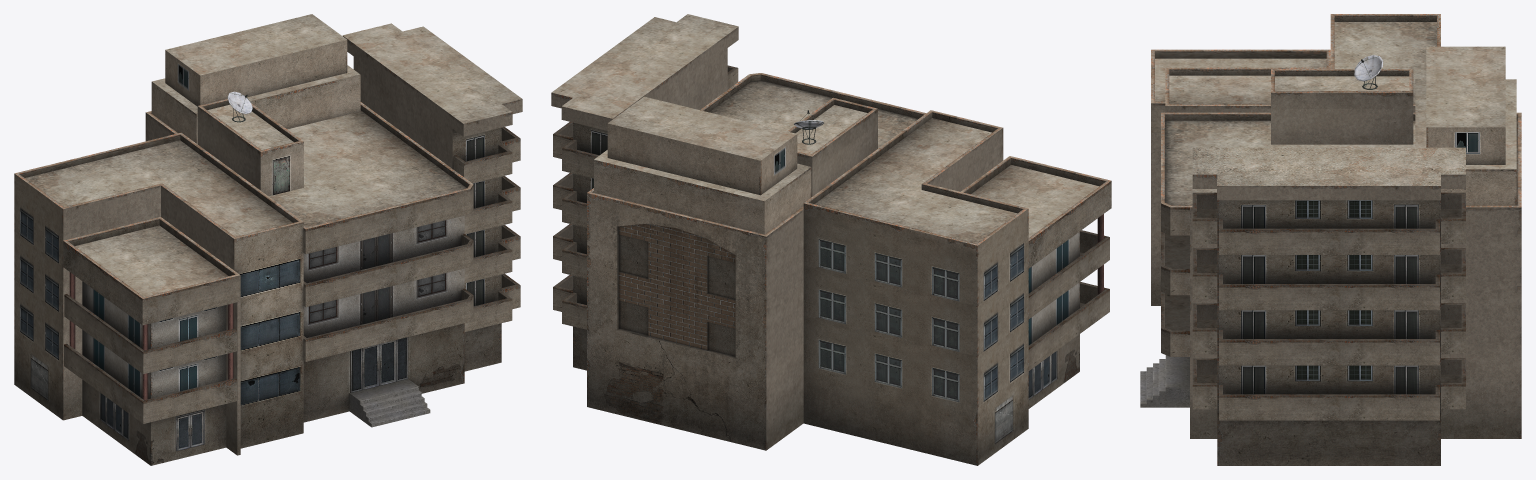
The model's file is buildings_12.FBX.
3 renders of one model, left to right at view 1: azimuth 30°, elevation 25°; view 2: azimuth 150°, elevation 25°; view 3: azimuth 270°, elevation 25°, orthographic. The views are drawn at different scales.
Visible parts, largest first — view 1: Object092; view 2: Object092; view 3: Object092.
Part boxes in pixels (box(x1,y1,x2,y2)): Object092: box(14, 14, 522, 465); Object092: box(551, 14, 1111, 465); Object092: box(1140, 14, 1521, 465).
Size of the model in its own units: 2663 by 1905 by 1680.
Materials: 1 (1 with a texture image).
